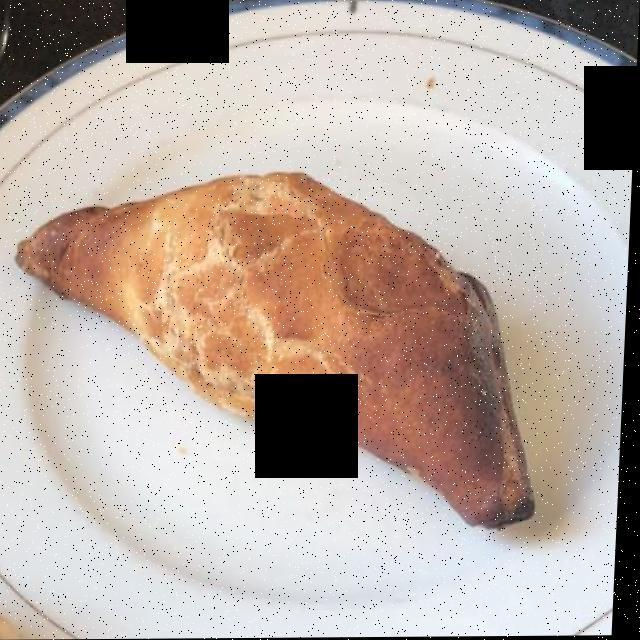meat-pie-empanadas: (12, 167, 549, 528)
